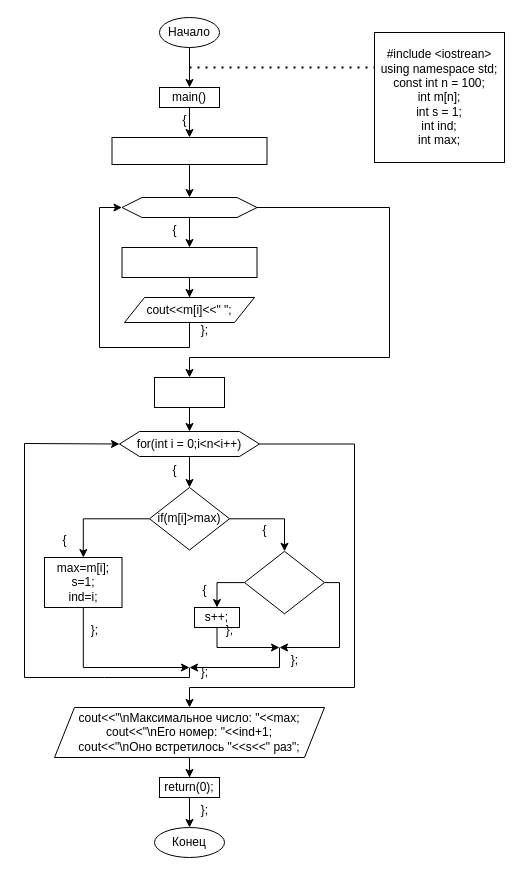
This 522x875 diagram has some shape labels left out. The shapes that lost their labels are listed below. From the top down, each one's centre as x and y in pixels, then its label:
the point at 189,150: setlocale(LC_ALL,"Rus");
the point at 189,207: for(int i = 0;i<n;i++)
the point at 189,262: m[i]=rand()%200-100;
the point at 189,392: max=m[0];
the point at 284,582: if(m[i]==max)
